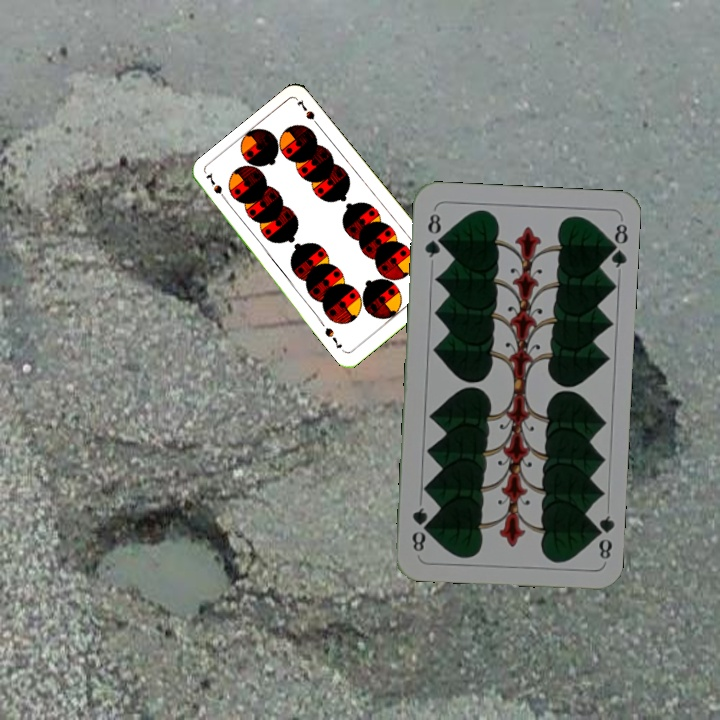G8: (589, 511, 617, 562), (420, 206, 445, 260)
S7: (202, 170, 231, 206)
